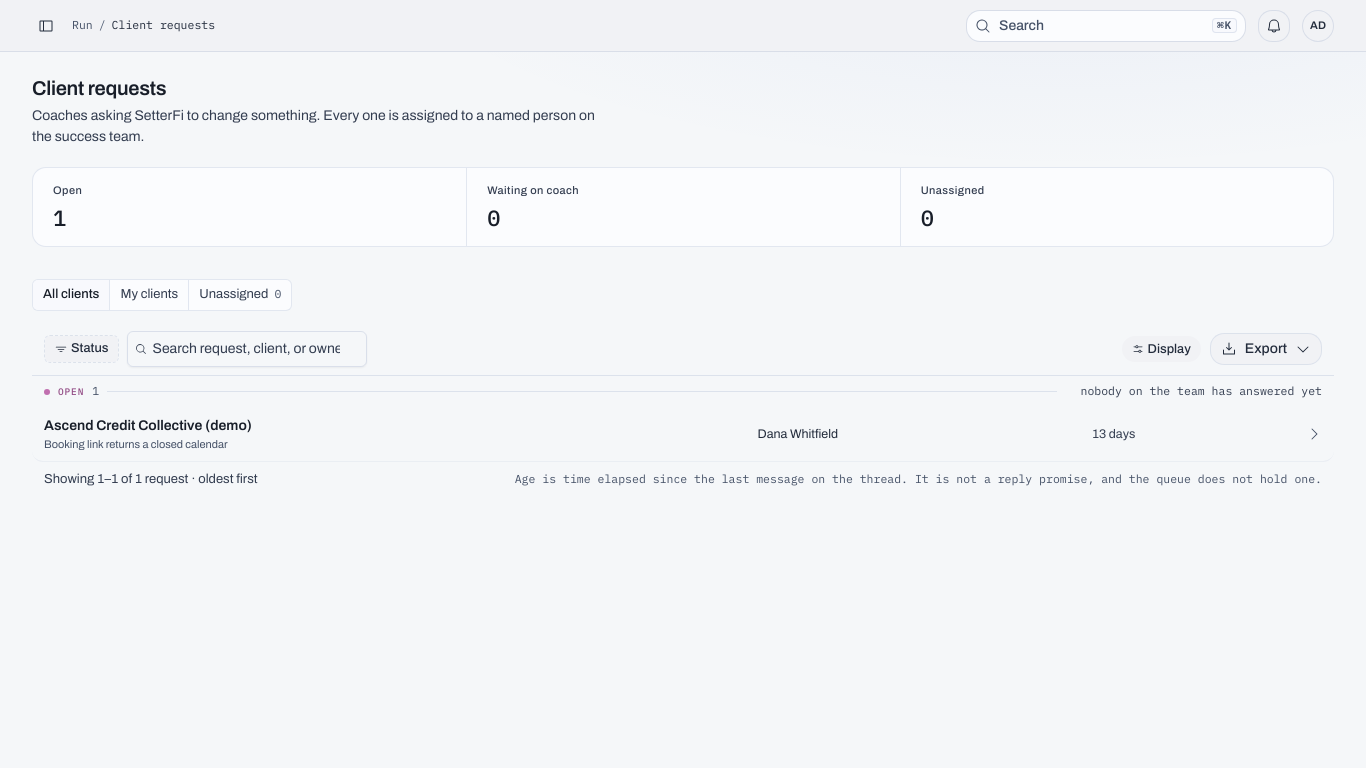
Test case: AdminSupport queue shape › names who raised a request and who touched it last in the drawer's audit line
Click the button that starts with "Ascend Credit Collective (demo)" at (148, 426), box top-left (44, 412), bottom-right (734, 457)
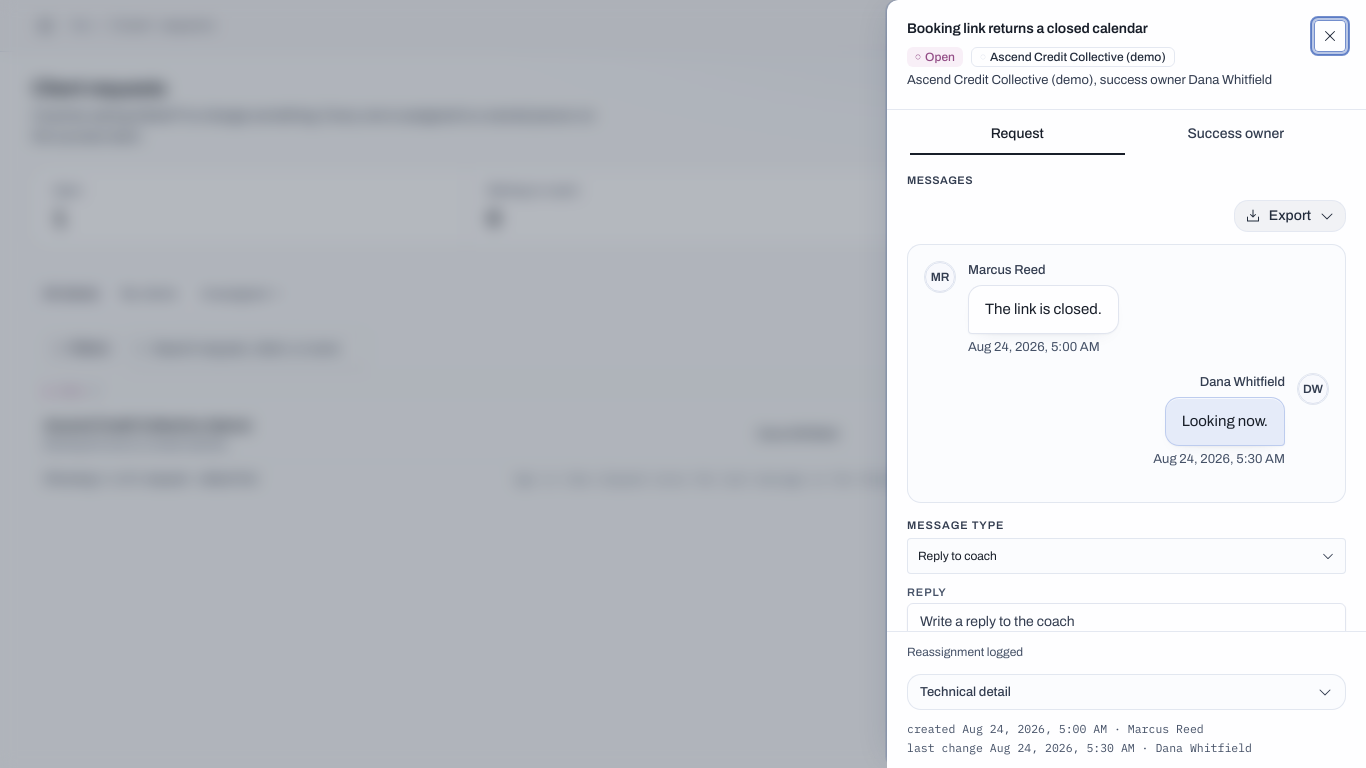
Check: the text "created Aug 24, 2026, 5:00 AM · Marcus Reed" is shown, box top-left (907, 722), bottom-right (1204, 737)
Check: the text "last change Aug 24, 2026, 5:30 AM · Dana Whitfield" is shown, box top-left (907, 741), bottom-right (1252, 756)
